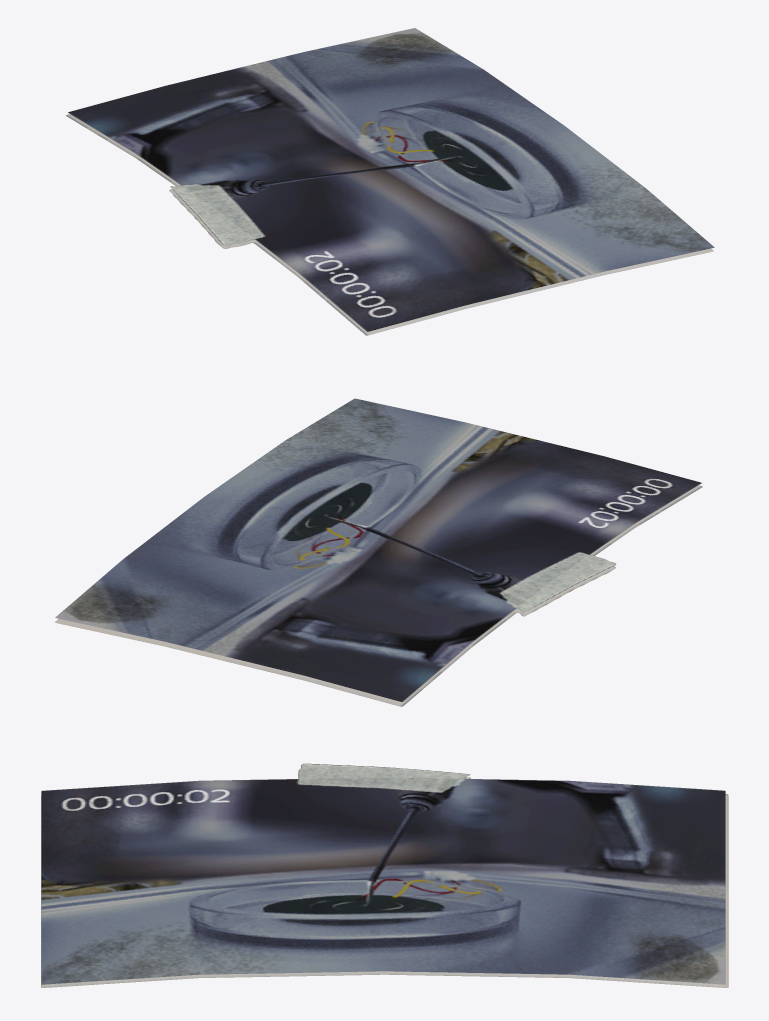
The model's file is 03_02_gel_photo_04.DAE.
The picture shows the model from 3 angles, top to bottom: view 1: azimuth 30°, elevation 25°; view 2: azimuth 150°, elevation 25°; view 3: azimuth 270°, elevation 25°; orthographic projection. The views are drawn at different scales.
Visible parts, largest first — view 1: photograph_world01; view 2: photograph_world01; view 3: photograph_world01.
Part boxes in pixels (box(x1,y1,x2,y2)): photograph_world01: box(66, 28, 714, 335); photograph_world01: box(55, 398, 702, 706); photograph_world01: box(41, 763, 728, 987).
Bounding box in the file's own units: 0.1526 × 0.0072 × 0.2062.
